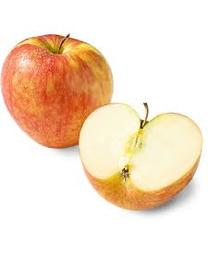apple: (77, 99, 202, 210), (0, 33, 113, 148)
